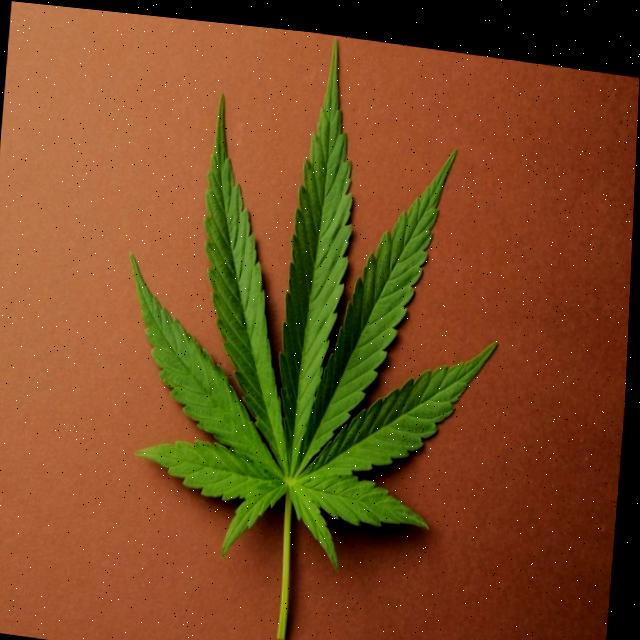cannabis: (127, 46, 495, 640)
